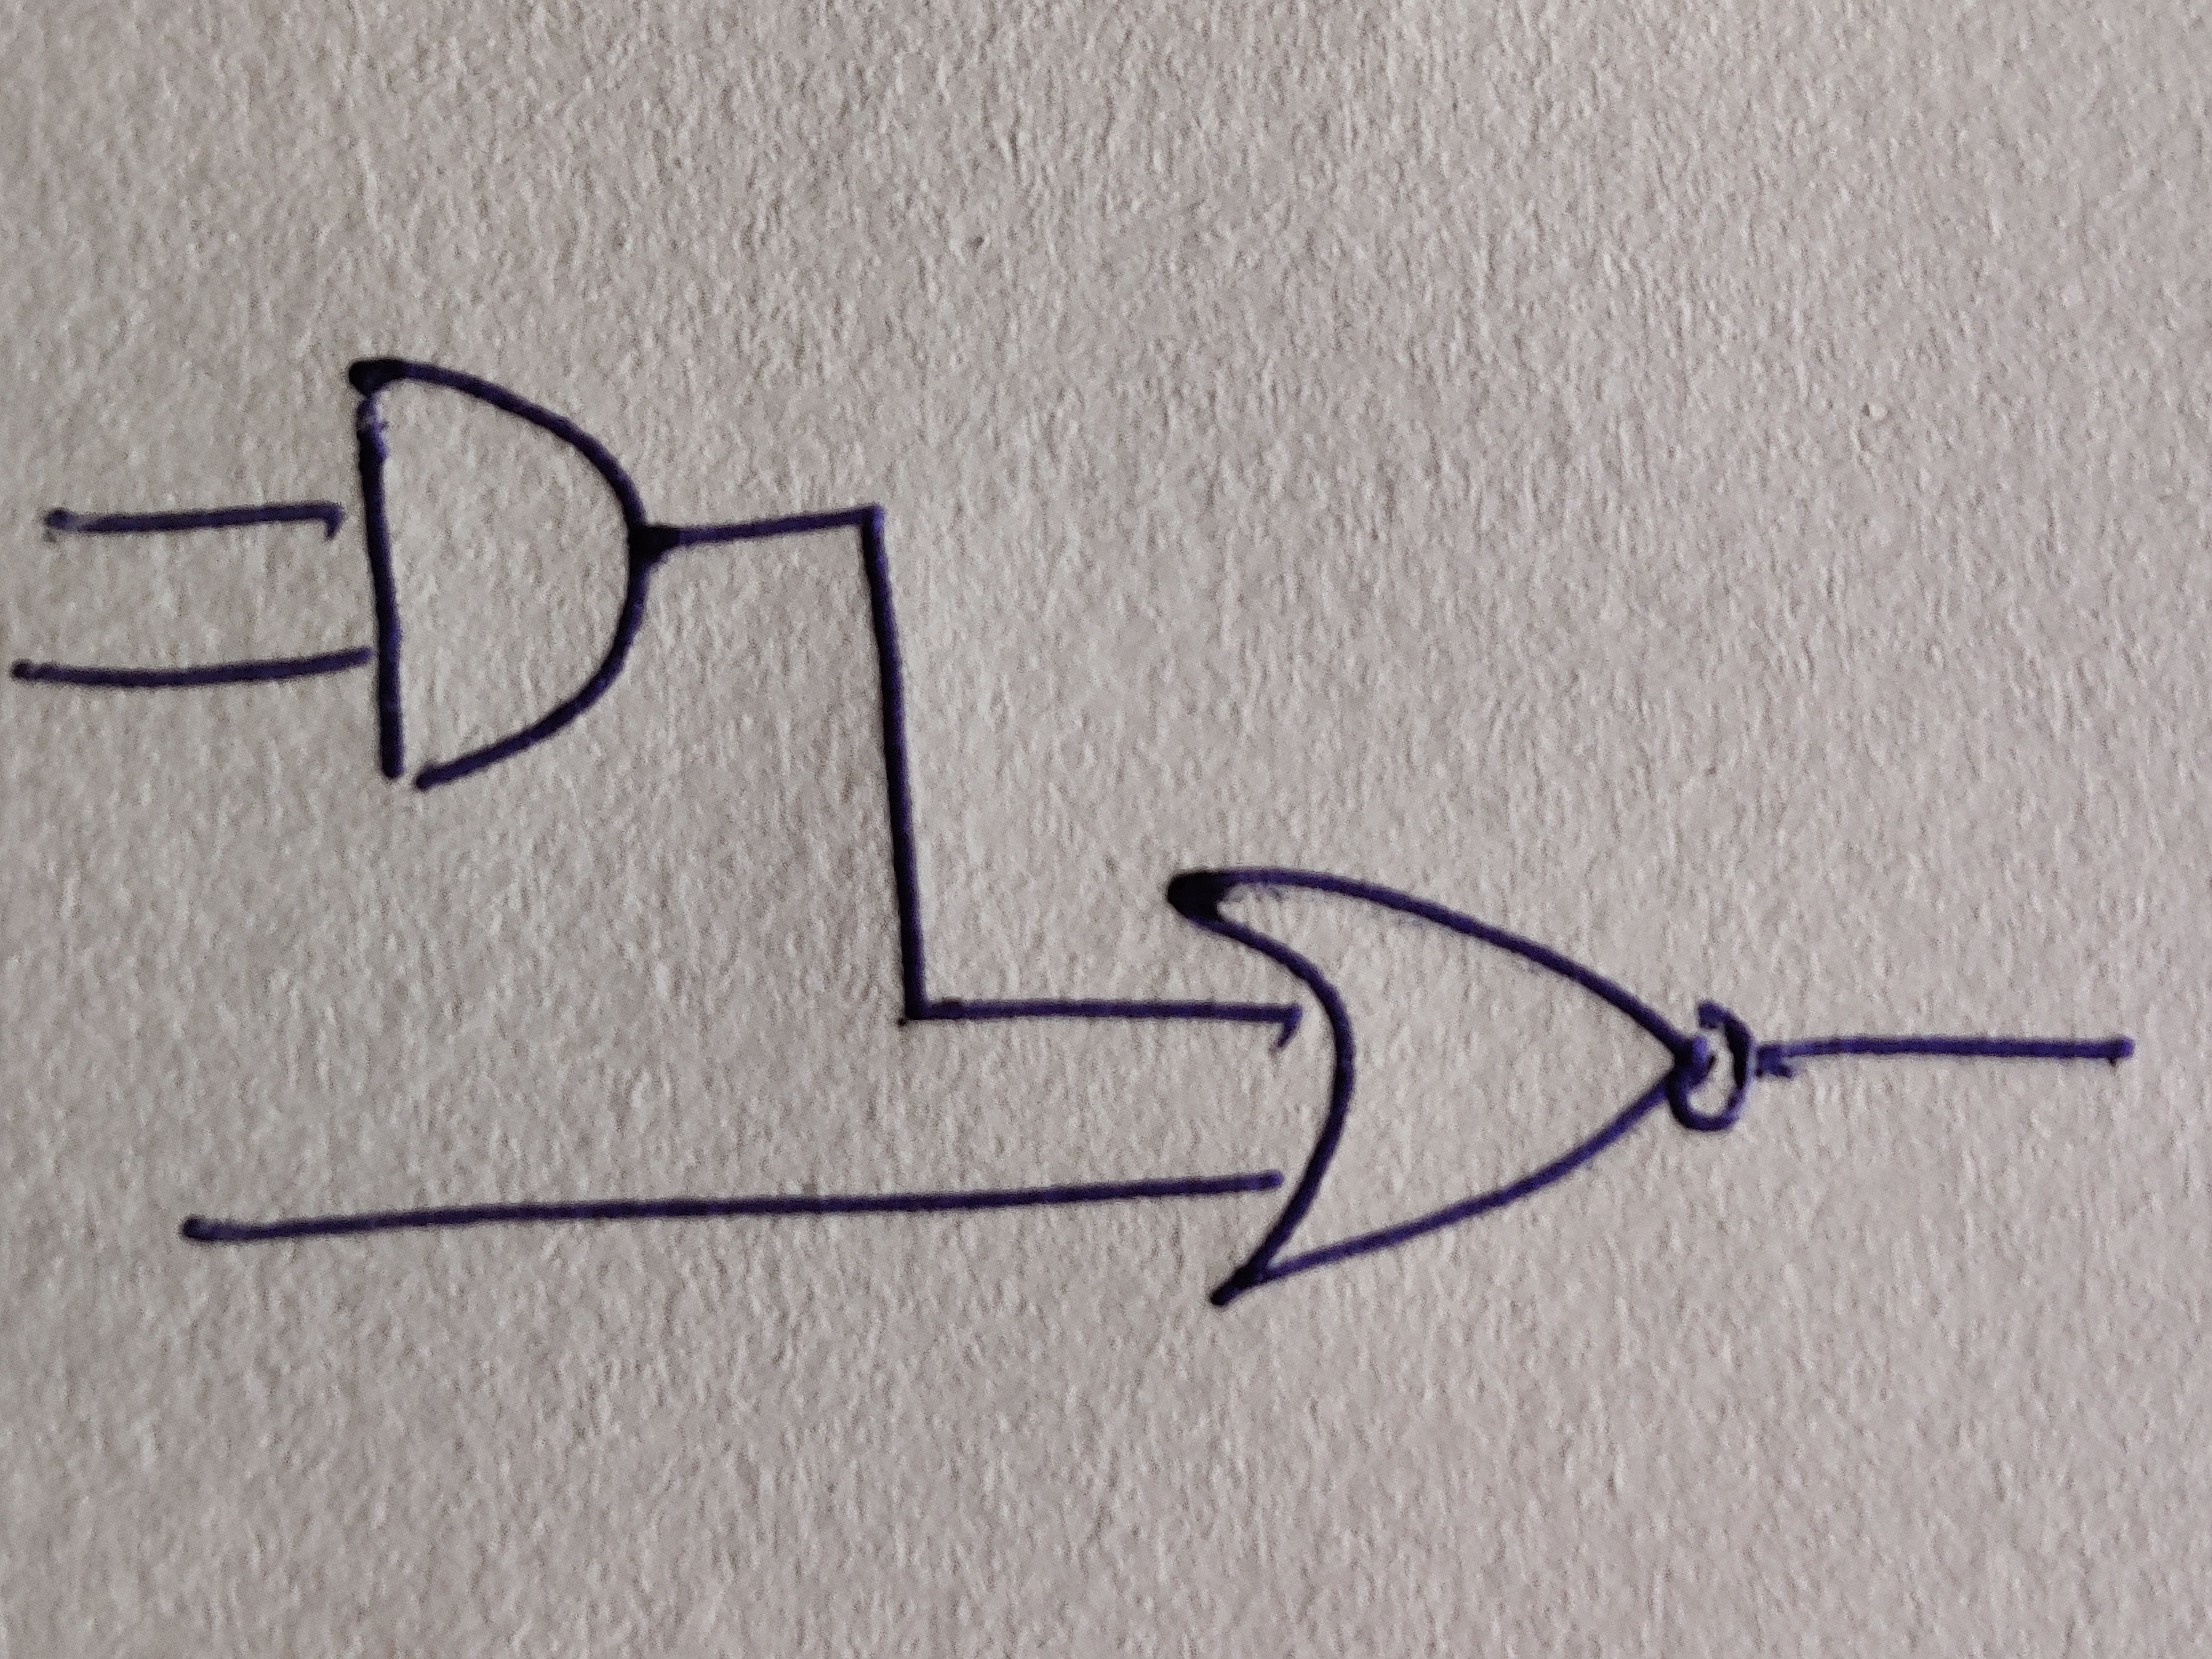and: (345, 357, 651, 789)
not: (1669, 999, 1752, 1131)
or: (1165, 866, 1683, 1310)
